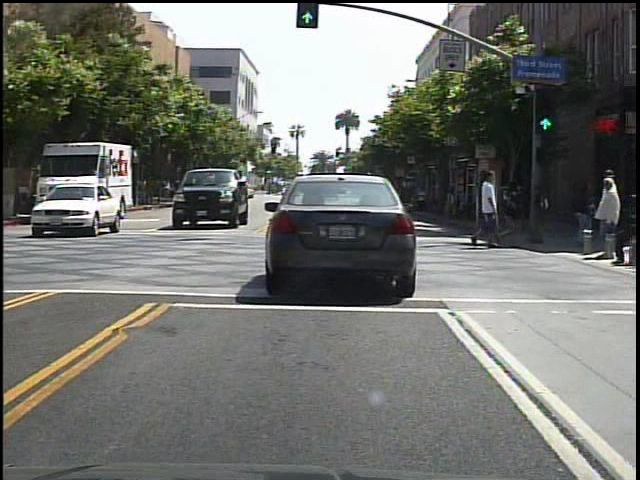person: (471, 165, 508, 251), (598, 167, 624, 262), (532, 175, 554, 244), (577, 176, 591, 245), (413, 183, 432, 216)
